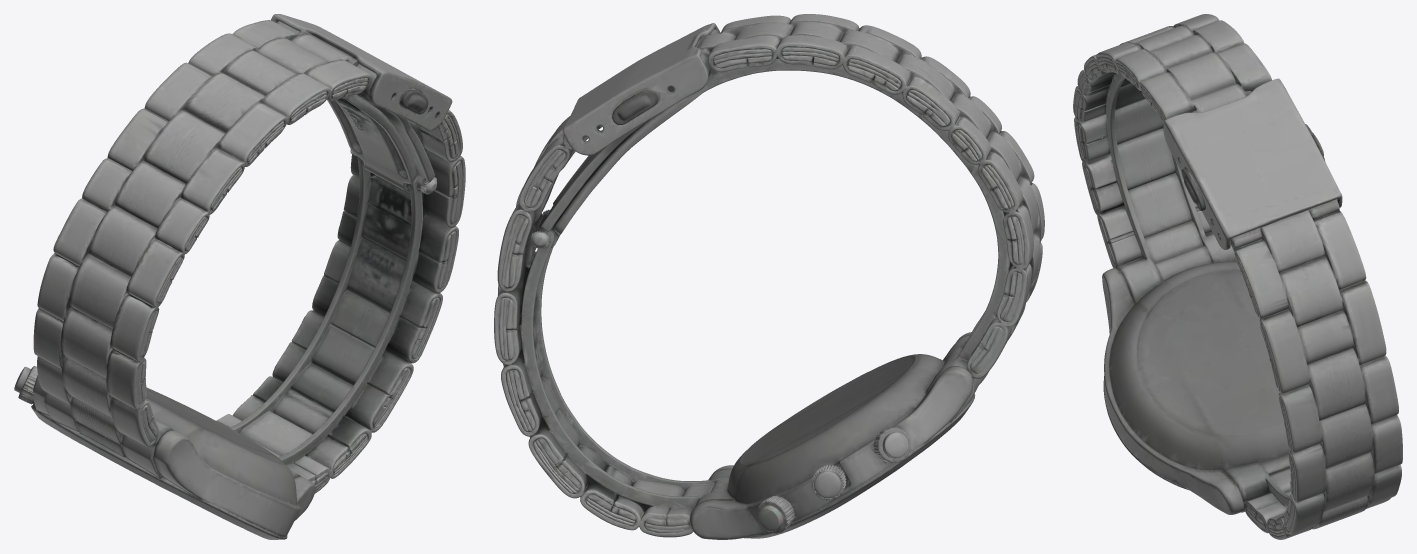
3 views of the same model, side by side, from view 1: azimuth 30°, elevation 25°; view 2: azimuth 150°, elevation 25°; view 3: azimuth 270°, elevation 25° (orthographic). The views are drawn at different scales.
Parts seen in each view (by area): view 1: tripo_node_d5dbe275-882c-498b-80c7-62003ab538d9; view 2: tripo_node_d5dbe275-882c-498b-80c7-62003ab538d9; view 3: tripo_node_d5dbe275-882c-498b-80c7-62003ab538d9.
Boxes of the visible parts, box(x1,y1,x2,y2) form: tripo_node_d5dbe275-882c-498b-80c7-62003ab538d9: box(14, 14, 465, 539); tripo_node_d5dbe275-882c-498b-80c7-62003ab538d9: box(494, 14, 1044, 539); tripo_node_d5dbe275-882c-498b-80c7-62003ab538d9: box(1073, 14, 1402, 539).
Size of the model in its own units: 0.07 by 0.0691 by 0.0459.
Materials: 1 (1 with a texture image).
